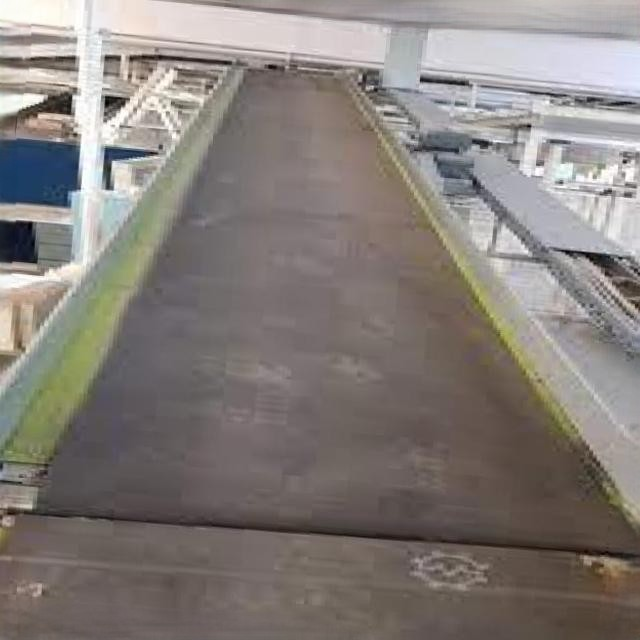Tear: (9, 476, 618, 598)
